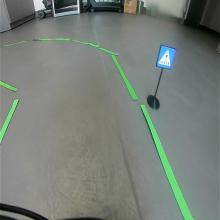crosswalk: (156, 45, 176, 70)
